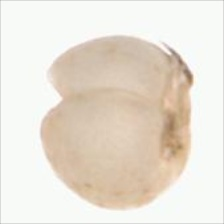L3: (40, 62, 66, 135)
L4: (39, 35, 191, 210)
